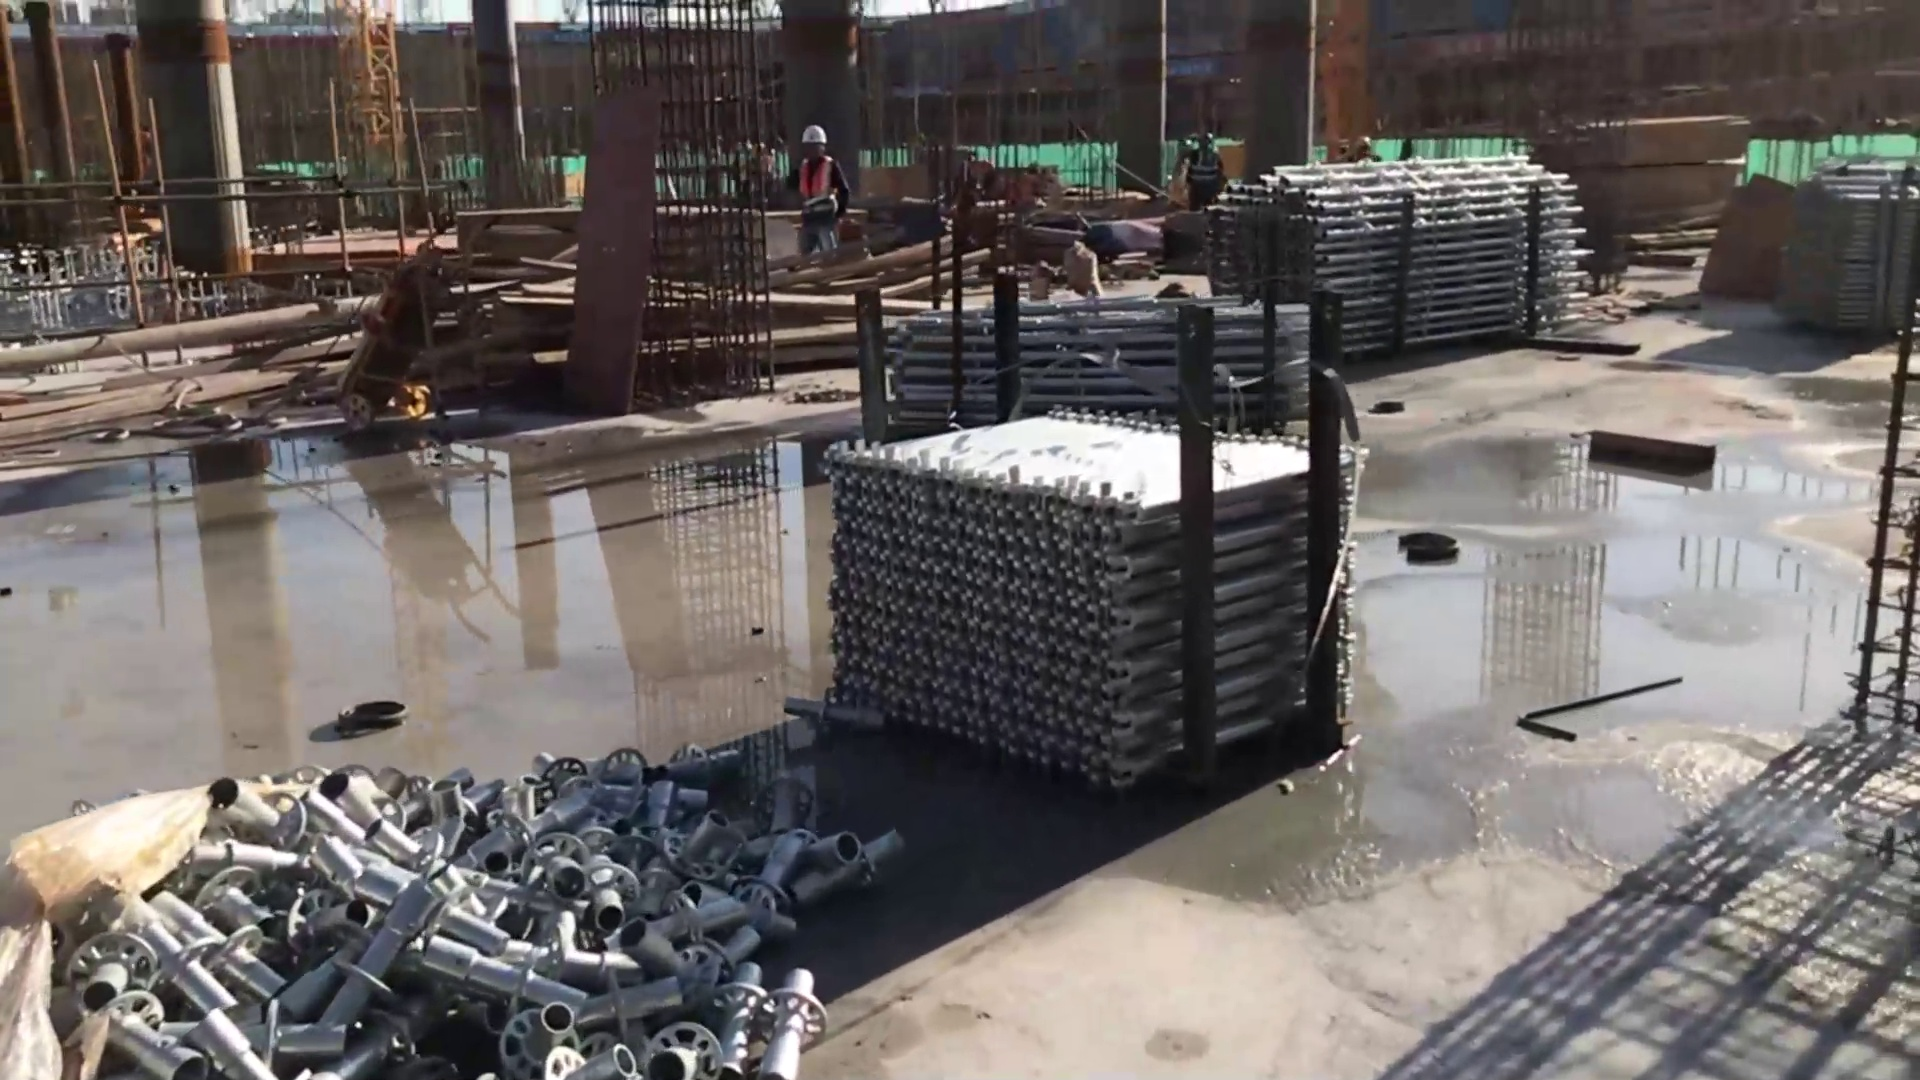helmet: (801, 124, 826, 145)
person: (788, 120, 855, 272), (1186, 146, 1228, 211)
scaffold: (246, 745, 905, 1080), (828, 414, 1352, 797), (1220, 157, 1593, 370), (888, 296, 1302, 446)
vest: (796, 158, 846, 229)
